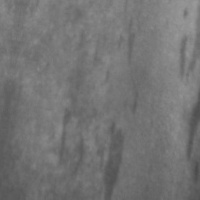inclusion: (50, 53, 106, 185), (160, 14, 199, 186), (89, 115, 129, 199), (113, 14, 142, 67), (123, 83, 141, 117)
